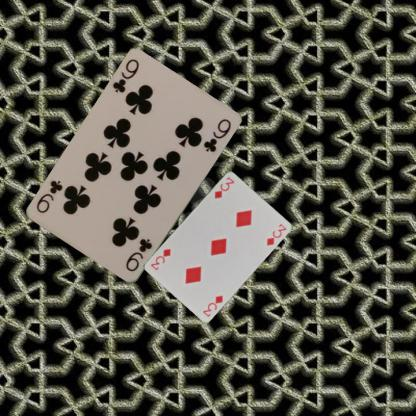3d: (211, 174, 236, 199), (201, 292, 224, 318)
9c: (123, 236, 154, 274), (110, 56, 141, 94)
